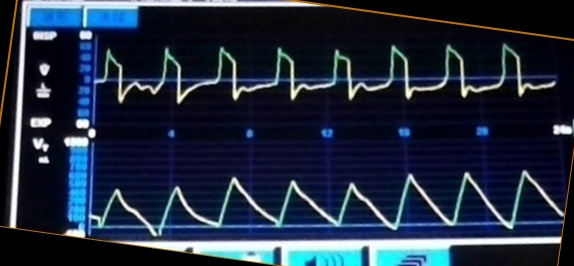Premature_cycling Flow: (97, 38, 553, 118)
Premature_cycling Volume: (94, 163, 559, 236)
